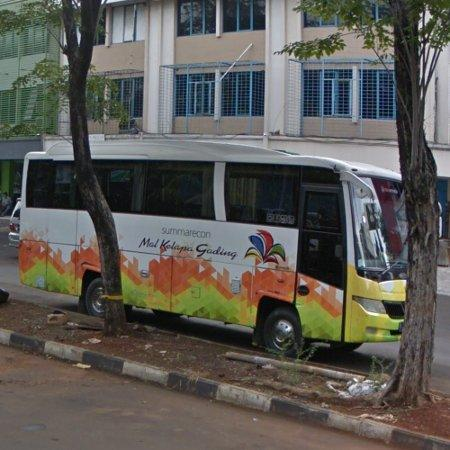buses: (93, 142, 408, 354), (20, 147, 103, 315)
